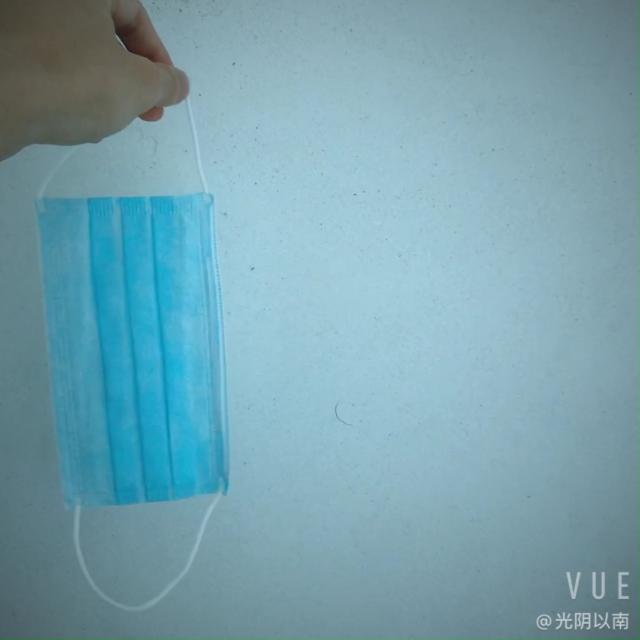non-organic waste: (34, 198, 228, 512)
